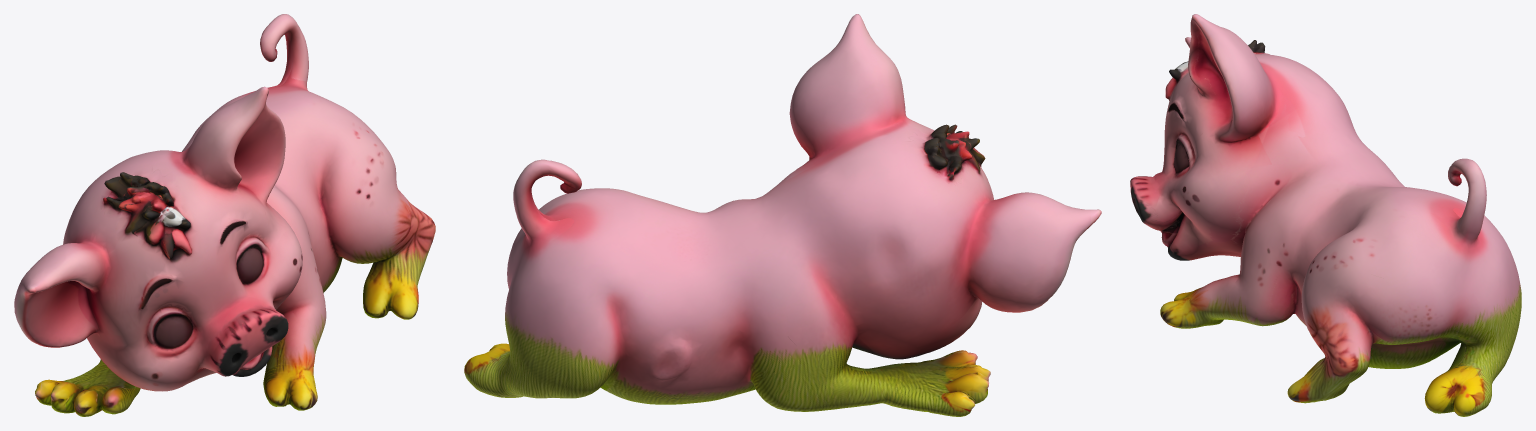
The model's file is pig.glb.
3 renders of one model, left to right at view 1: azimuth 30°, elevation 25°; view 2: azimuth 150°, elevation 25°; view 3: azimuth 270°, elevation 25°, orthographic. The views are drawn at different scales.
Size of the model in its own units: 1.92 by 1.22 by 1.42.
Materials: 1 (1 with a texture image).
